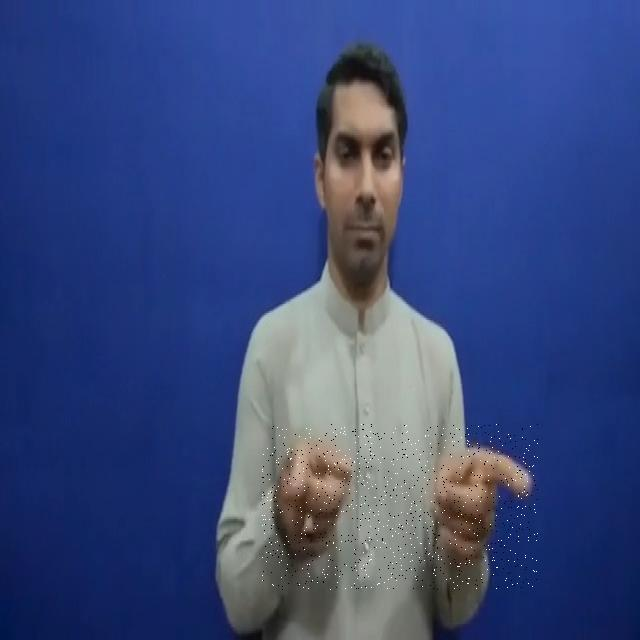sweet: (262, 424, 538, 590)
